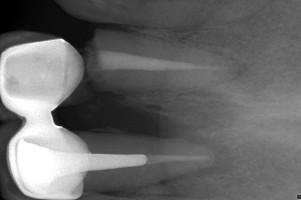Dental Caries: (75, 93, 241, 186)
